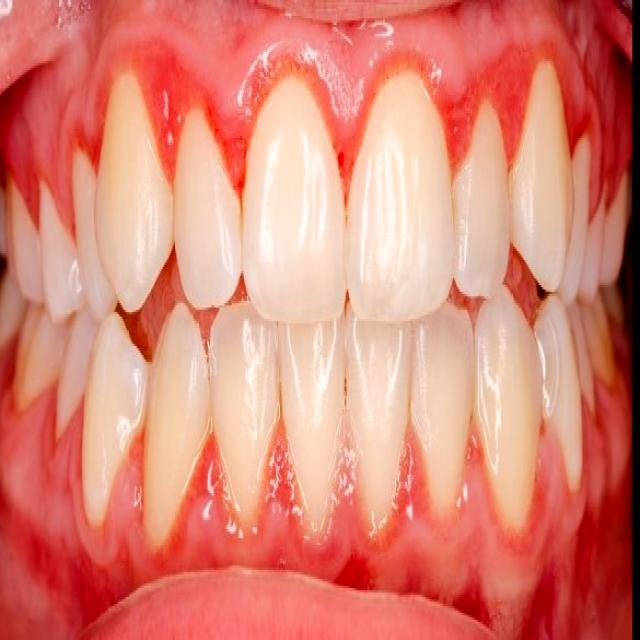gingivitis: (0, 0, 600, 233), (0, 375, 630, 595)
